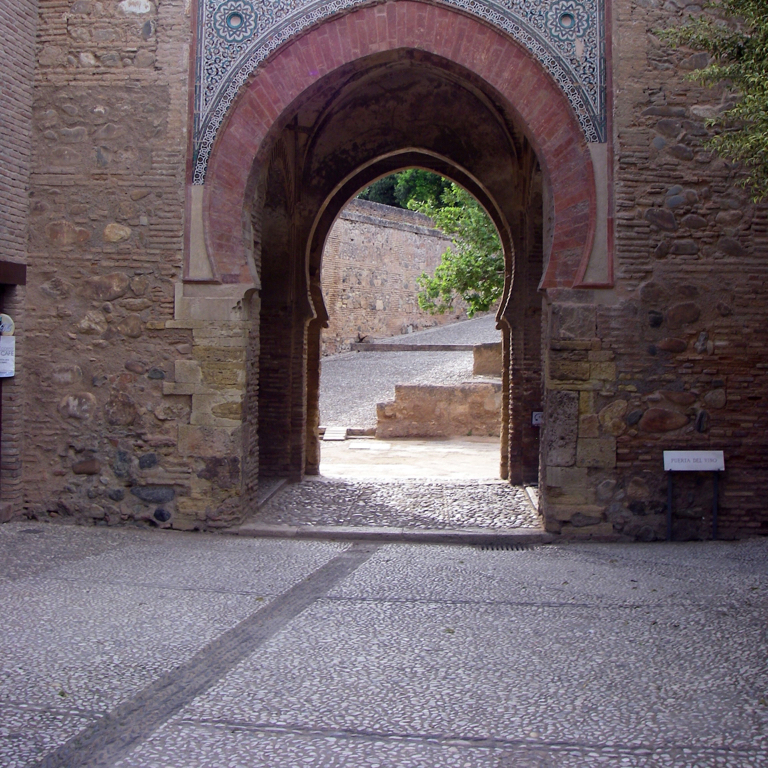arco-herradura: (226, 37, 571, 313)
